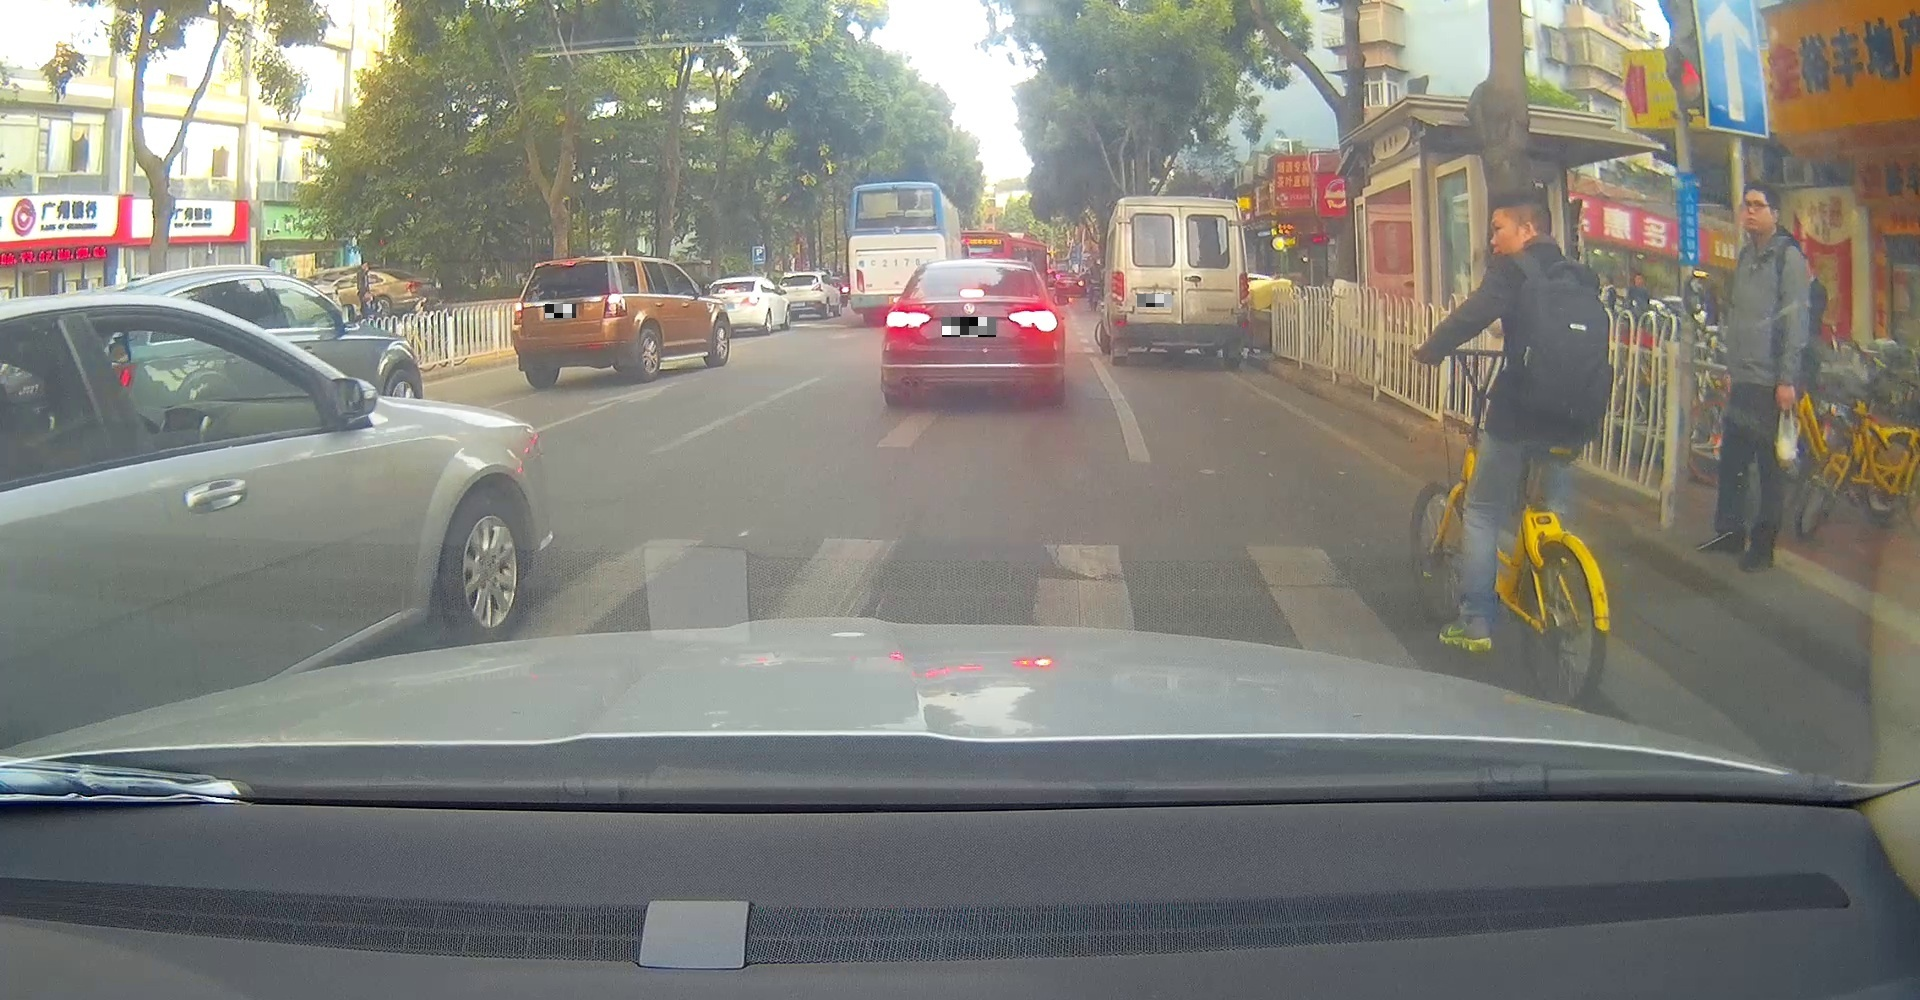L_light: (886, 307, 933, 336), (1109, 272, 1124, 305), (513, 302, 524, 325)
R_light: (1006, 305, 1058, 336), (603, 294, 627, 319), (1238, 272, 1250, 305)
T_light: (960, 289, 985, 299), (1172, 203, 1195, 209), (557, 261, 579, 268)
day-brake: (885, 259, 1058, 407), (510, 258, 629, 388)
day-no: (1109, 195, 1250, 365)
plate_1: (545, 305, 577, 319)
plate_2: (942, 317, 996, 338)
plate_3: (1137, 294, 1172, 307)
